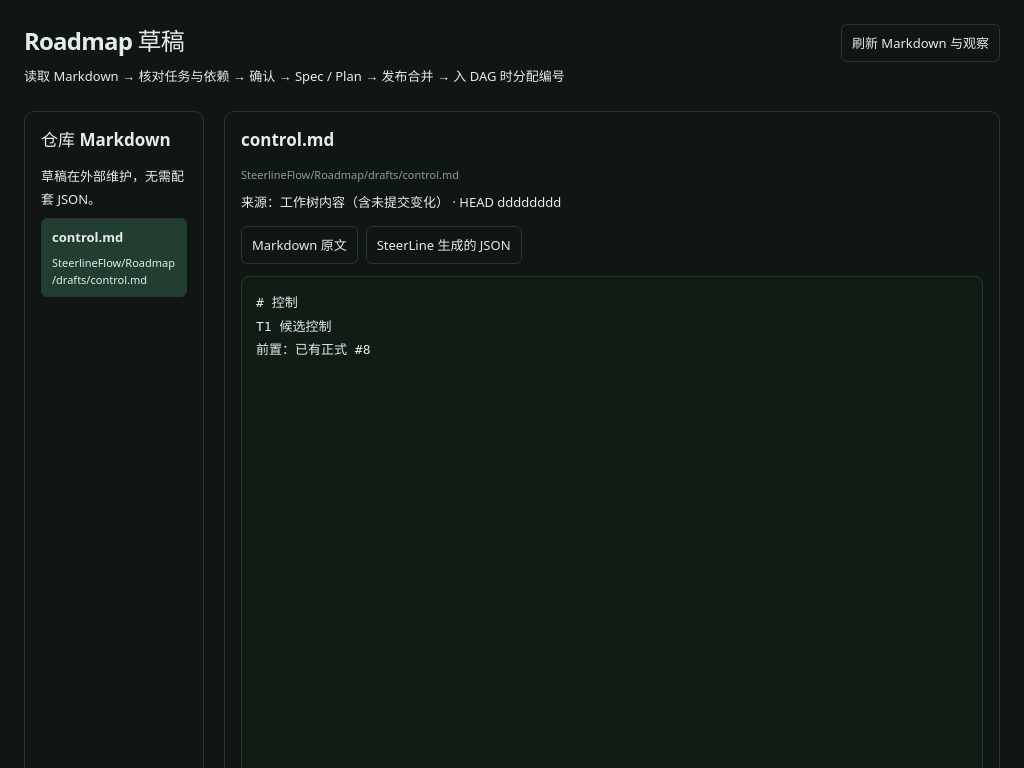
it: keeps confirmed content at local identities while document capability is unavailable
This screenshot has width=1024, height=768.
Click the button "SteerLine 生成的 JSON" at (444, 245), box top-left (366, 226), bottom-right (522, 264)
(page scrolled)
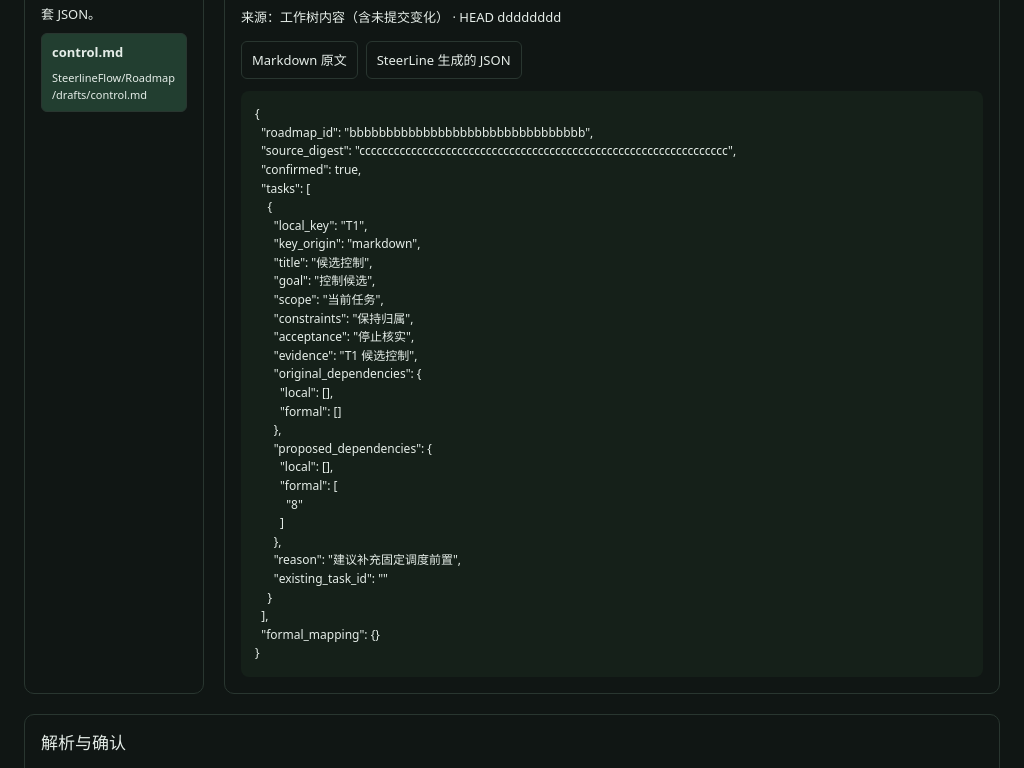
Check: the text "\"formal_mapping\": {}" is shown, box top-left (255, 105), bottom-right (736, 661)
